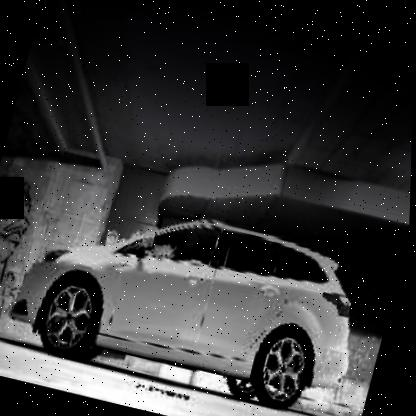not_emergency: (0, 162, 390, 415)
